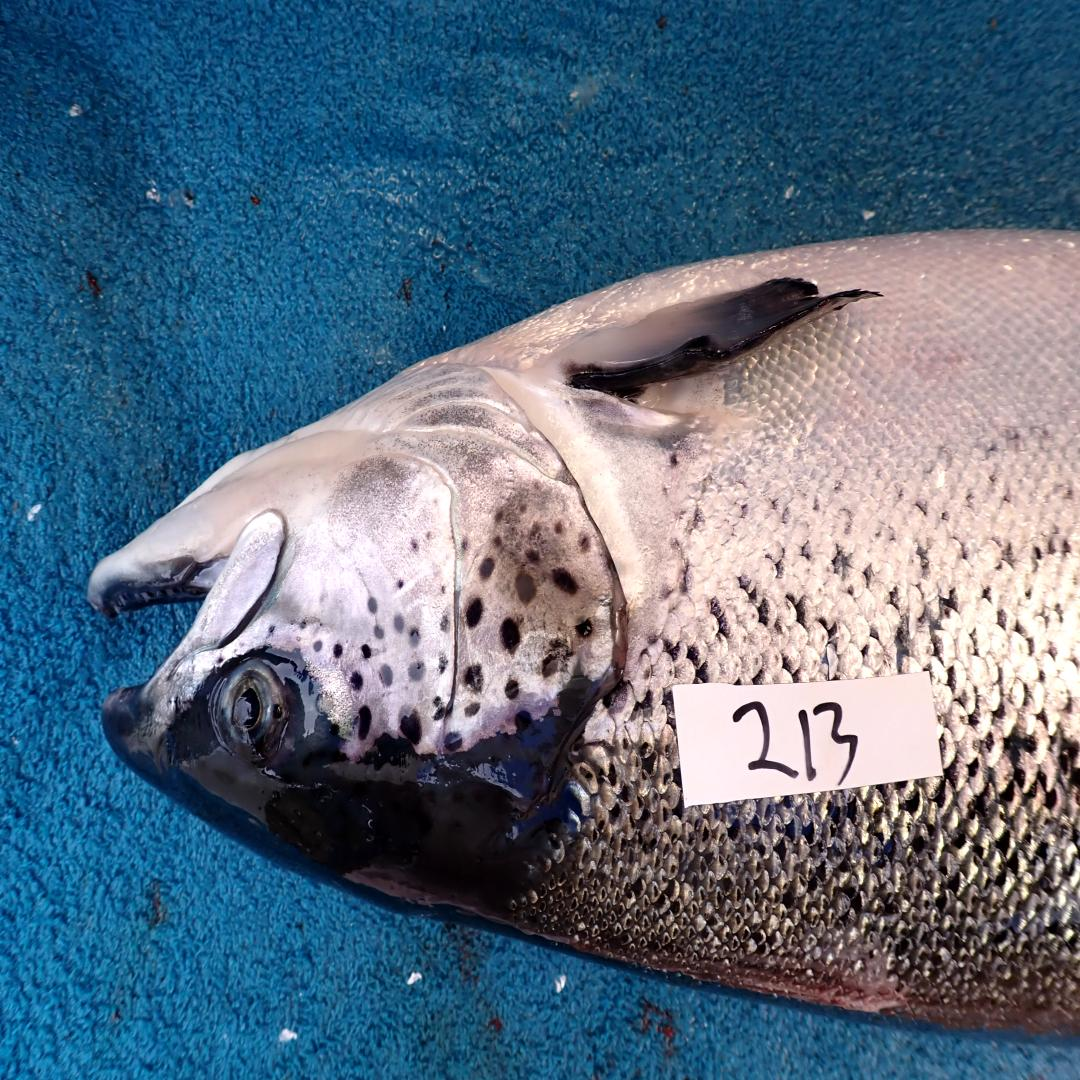roi: (284, 357, 618, 756)
